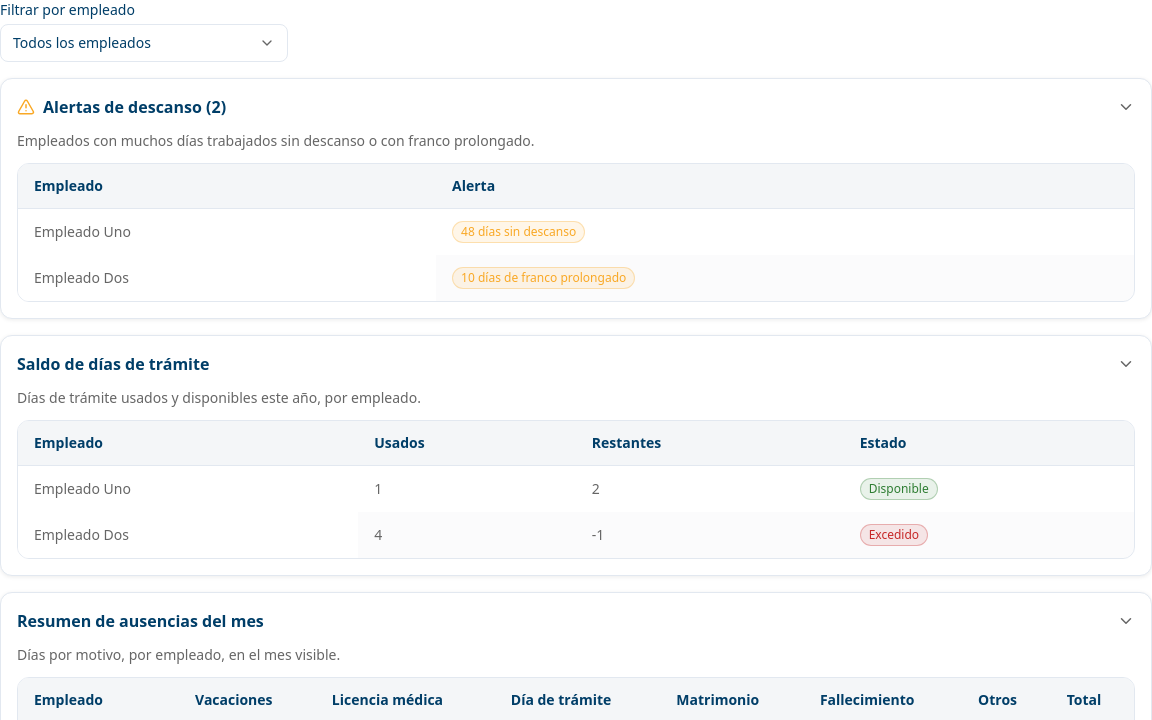
Test: CalendarioSections — filtro por empleado acota las 3 secciones › seleccionar un empleado acota las 3 secciones a solo ese empleado
Click the button "Todos los empleados": (144, 43) [0, 24, 288, 62]
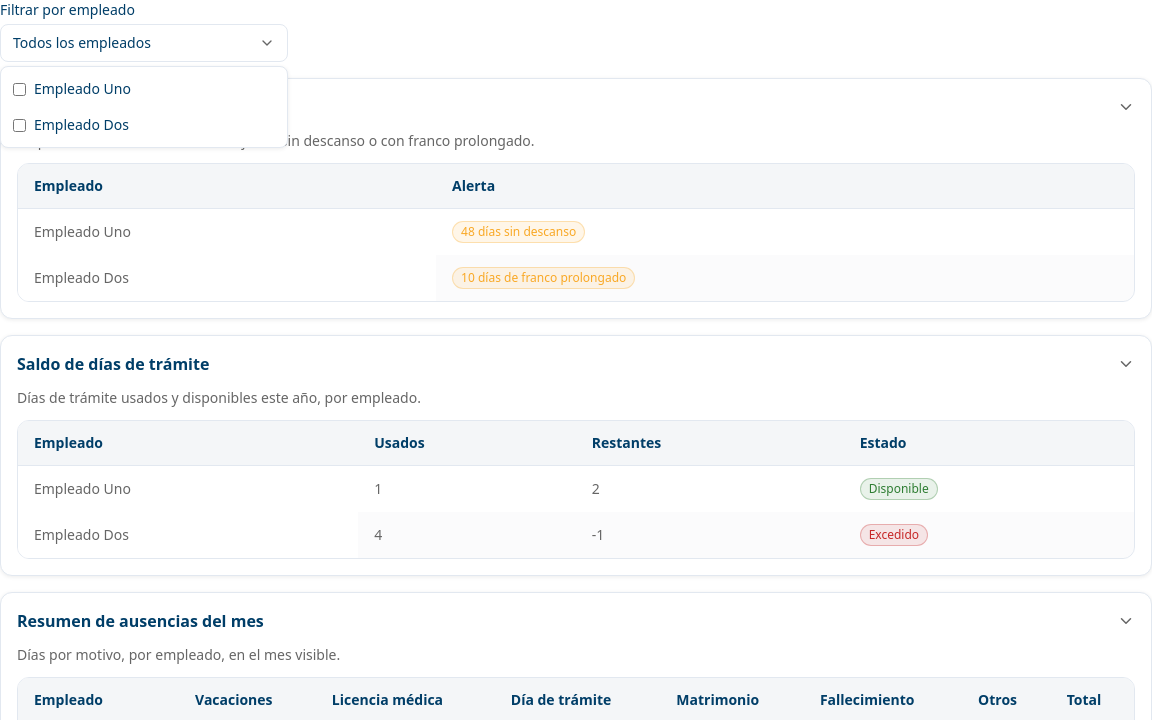
Click the option "Empleado Uno": (72, 88) [13, 79, 131, 98]
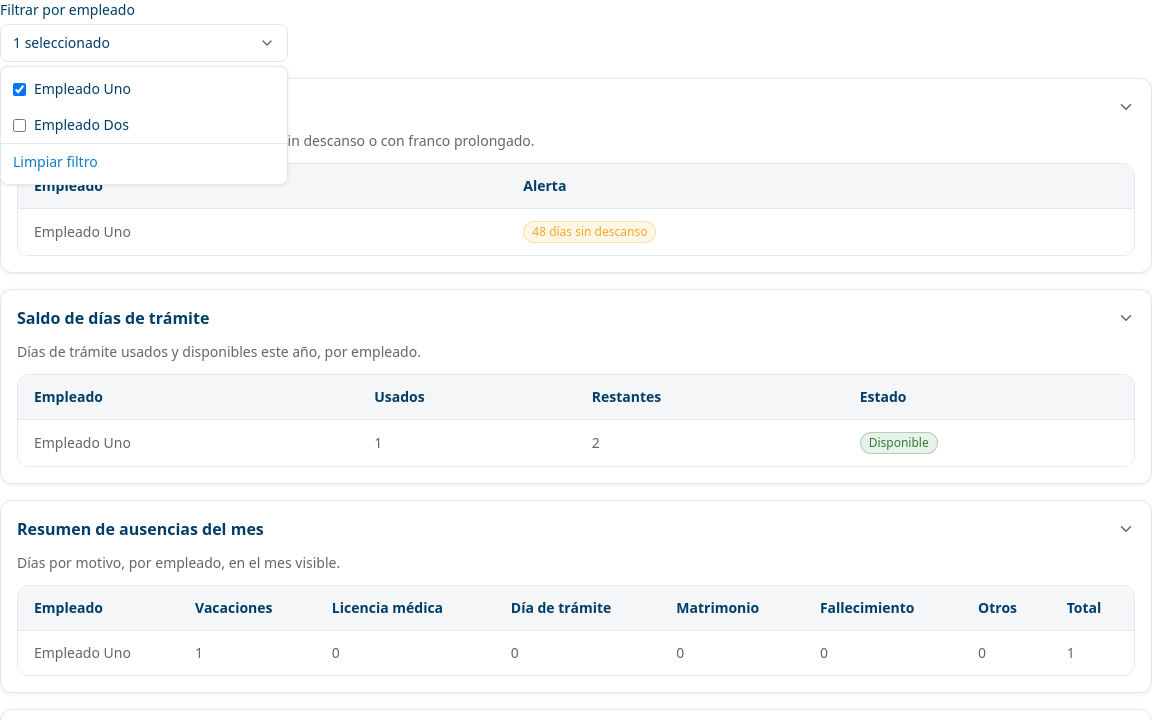
Click the button "1 seleccionado": (61, 42) [0, 24, 288, 62]
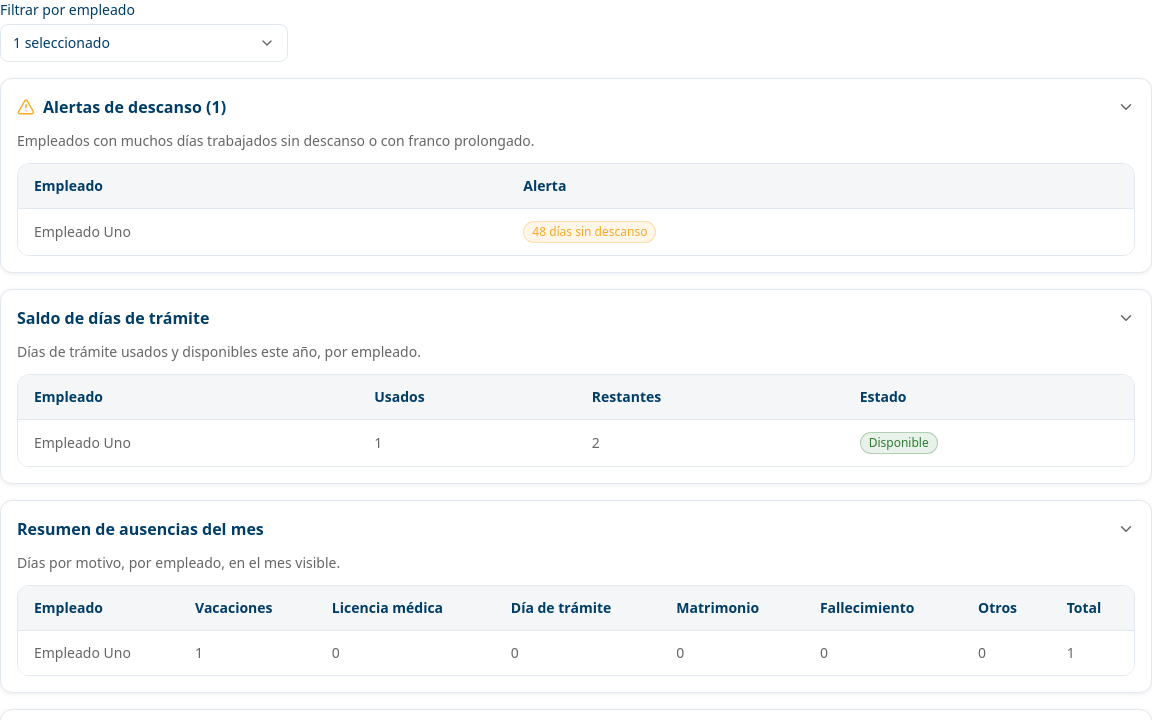
Expected: the text "Empleado Uno" next to "48" is shown, [34, 222, 131, 241]
Expected: the option "Empleado Dos" is gone
